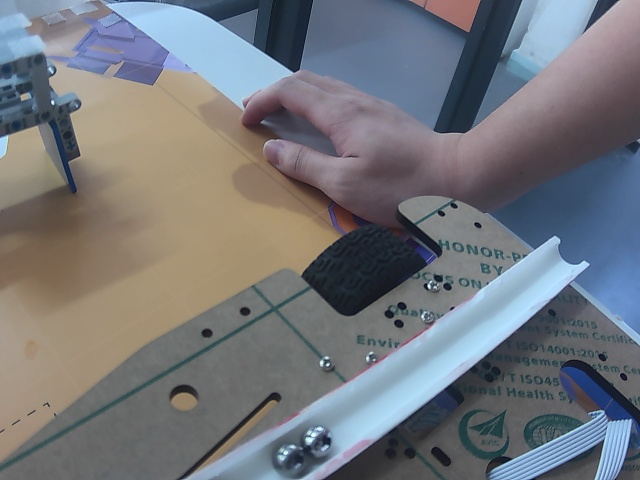steelball: (272, 444, 305, 475), (302, 426, 333, 458)
